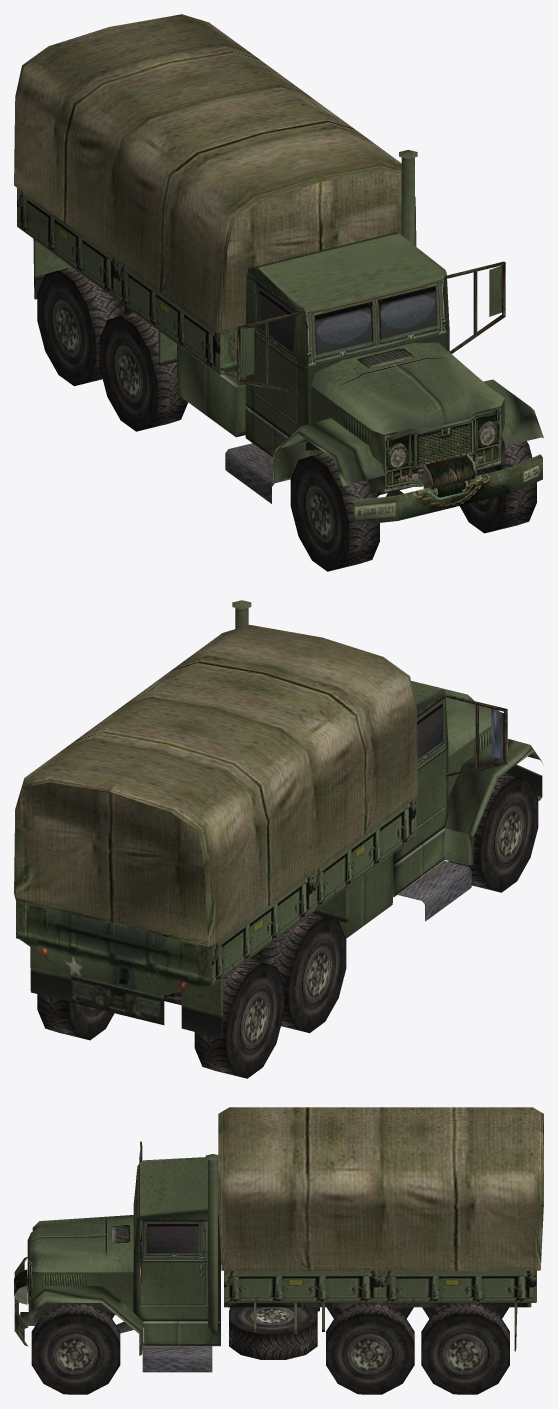
The model's file is F5TonP.glb.
The picture shows the model from 3 angles, top to bottom: view 1: azimuth 30°, elevation 25°; view 2: azimuth 150°, elevation 25°; view 3: azimuth 270°, elevation 25°; orthographic projection. The views are drawn at different scales.
Visible parts, largest first — view 1: _F5TonP; view 2: _F5TonP; view 3: _F5TonP.
Part boxes in pixels (x1,y1,x2,y2): _F5TonP: (14, 14, 543, 571); _F5TonP: (14, 600, 543, 1078); _F5TonP: (14, 1107, 543, 1394).
Bounding box in the file's own units: 4.28 × 4.7 × 9.56.
Materials: 2 (2 with a texture image).
